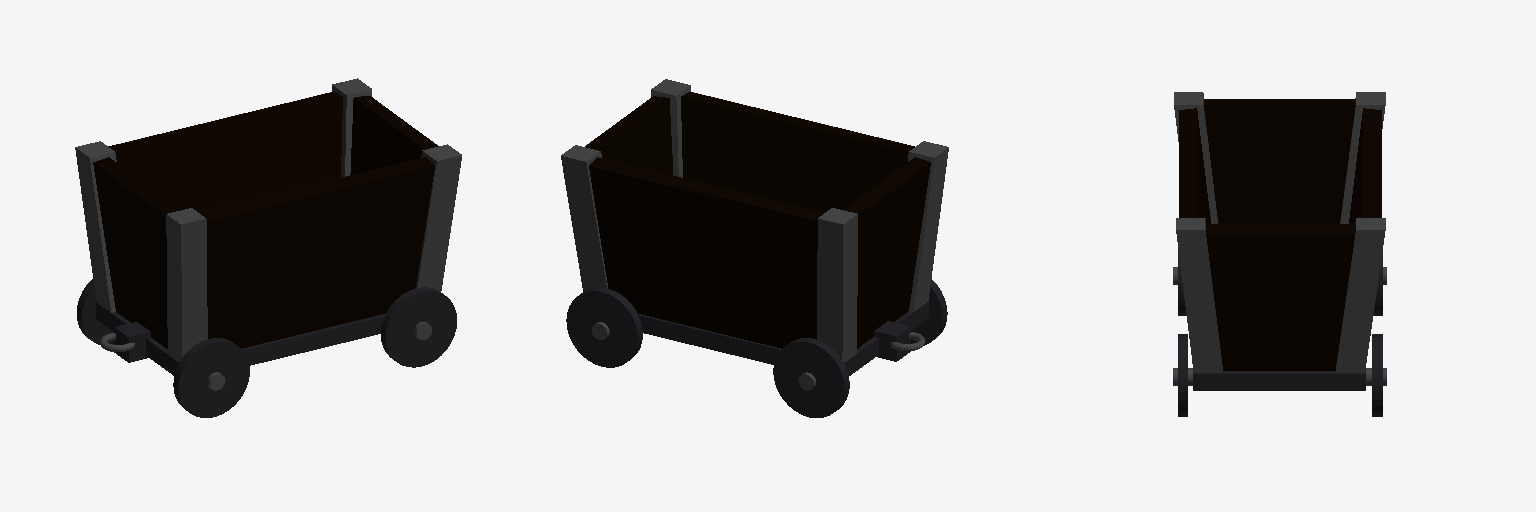
File: mineCart.obj
3 renders of one model, left to right at view 1: azimuth 30°, elevation 25°; view 2: azimuth 150°, elevation 25°; view 3: azimuth 270°, elevation 25°, orthographic.
Parts seen in each view (by area): view 1: Cube.002_Cube.003, Cube.001_Cube.002, Cube.004_Cube.005, Cube.008_Cube.009, Cylinder.004, Cylinder.005, Cube.003_Cube.004, Cube.007_Cube.008, Cube_Cube.001, Cube.005_Cube.006, Cube.006_Cube.007, Cylinder.002 (+1 smaller); view 2: Cube.001_Cube.002, Cube.002_Cube.003, Cube.004_Cube.005, Cube.005_Cube.006, Cylinder.003, Cylinder.002, Cube.003_Cube.004, Cube.006_Cube.007, Cube_Cube.001, Cube.008_Cube.009, Cube.007_Cube.008, Cylinder.005 (+1 smaller); view 3: Cube.003_Cube.004, Cube.004_Cube.005, Cube.006_Cube.007, Cube.007_Cube.008, Cube_Cube.001, Cube.001_Cube.002, Cube.002_Cube.003, Cube.005_Cube.006, Cube.008_Cube.009, Cylinder.003, Cylinder.004.
Part boxes in pixels (bbox=[...]): Cube.002_Cube.003: bbox=[199, 157, 434, 348]; Cube.001_Cube.002: bbox=[108, 92, 342, 212]; Cube.004_Cube.005: bbox=[93, 157, 180, 348]; Cube.008_Cube.009: bbox=[166, 208, 207, 361]; Cylinder.004: bbox=[381, 287, 456, 367]; Cylinder.005: bbox=[173, 338, 249, 417]; Cube.003_Cube.004: bbox=[350, 96, 438, 174]; Cube.007_Cube.008: bbox=[416, 144, 461, 291]; Cube_Cube.001: bbox=[96, 302, 385, 375]; Cube.005_Cube.006: bbox=[75, 141, 116, 312]; Cube.006_Cube.007: bbox=[332, 78, 371, 177]; Cylinder.002: bbox=[77, 279, 113, 344]; Cube.001_Cube.002: bbox=[589, 157, 824, 348]; Cube.002_Cube.003: bbox=[681, 92, 914, 212]; Cube.004_Cube.005: bbox=[843, 157, 930, 348]; Cube.005_Cube.006: bbox=[817, 208, 857, 362]; Cylinder.003: bbox=[566, 287, 642, 367]; Cylinder.002: bbox=[773, 338, 849, 417]; Cube.003_Cube.004: bbox=[585, 96, 673, 175]; Cube.006_Cube.007: bbox=[561, 145, 607, 291]; Cube_Cube.001: bbox=[638, 301, 928, 375]; Cube.008_Cube.009: bbox=[908, 141, 948, 311]; Cube.007_Cube.008: bbox=[651, 79, 690, 177]; Cylinder.005: bbox=[911, 279, 947, 345]; Cube.003_Cube.004: bbox=[1206, 224, 1355, 370]; Cube.004_Cube.005: bbox=[1204, 99, 1355, 223]; Cube.006_Cube.007: bbox=[1336, 218, 1385, 372]; Cube.007_Cube.008: bbox=[1176, 218, 1222, 372]; Cube_Cube.001: bbox=[1193, 370, 1365, 390]; Cube.001_Cube.002: bbox=[1349, 108, 1381, 223]; Cube.002_Cube.003: bbox=[1179, 108, 1210, 223]; Cube.005_Cube.006: bbox=[1340, 92, 1385, 223]; Cube.008_Cube.009: bbox=[1174, 92, 1217, 223]; Cylinder.003: bbox=[1372, 334, 1382, 416]; Cylinder.004: bbox=[1178, 334, 1187, 416].
Size of the model in its own units: 4.11 by 2.58 by 2.48.